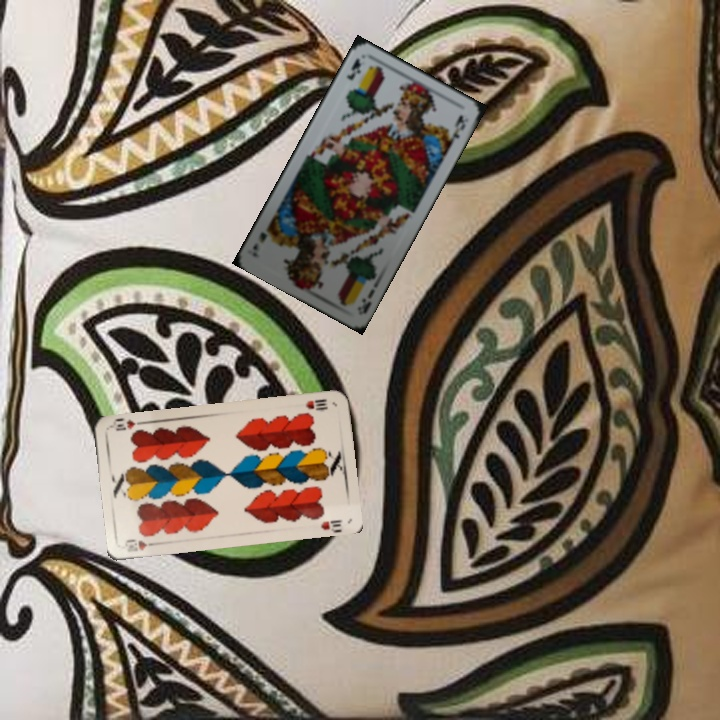EK: (353, 285, 377, 316), (342, 54, 363, 83)
H10: (122, 535, 160, 555), (301, 395, 330, 413)
